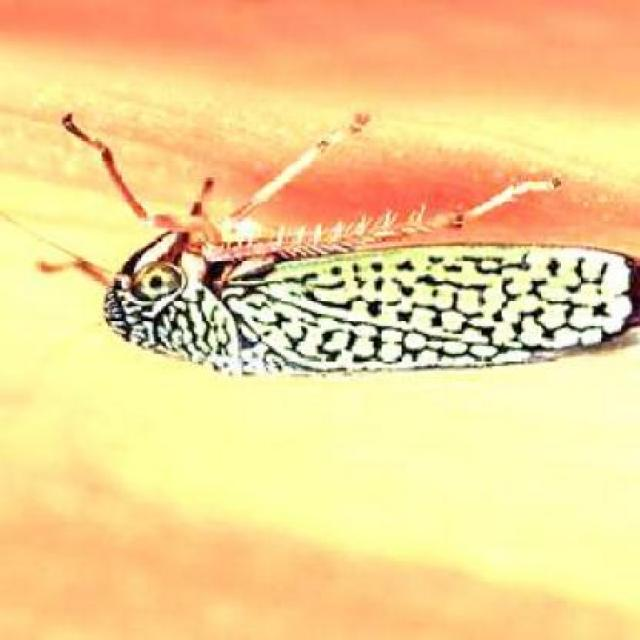green-leafhopper: (86, 205, 640, 383)
